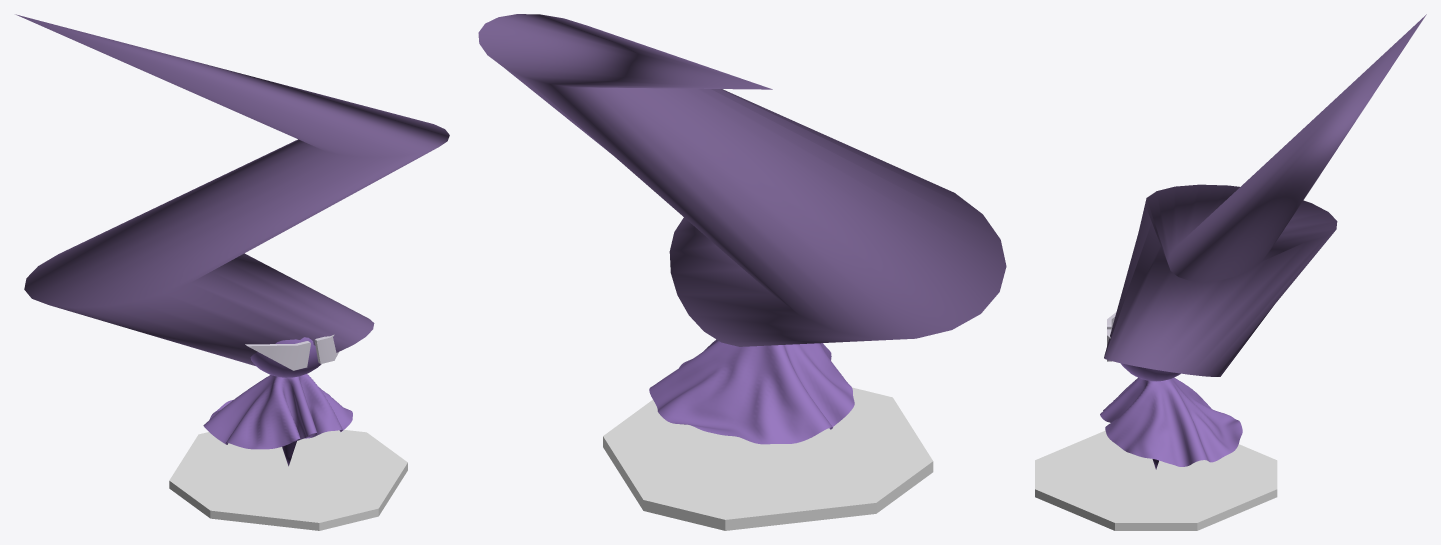
File: Catharsis.glb
3 views of the same model, side by side, from view 1: azimuth 30°, elevation 25°; view 2: azimuth 150°, elevation 25°; view 3: azimuth 270°, elevation 25° (orthographic). The views are drawn at different scales.
Parts seen in each view (by area): view 1: pCone2, pCube4, polySurface2, pCube1, pSphere1, pCube2; view 2: pCone2, pCube4, polySurface2; view 3: pCone2, pCube4, polySurface2, pSphere1.
Part boxes in pixels (bbox=[...]): pCone2: bbox=[15, 14, 449, 365]; pCube4: bbox=[169, 429, 407, 530]; polySurface2: bbox=[203, 374, 352, 449]; pCube1: bbox=[245, 341, 310, 370]; pSphere1: bbox=[250, 337, 321, 377]; pCube2: bbox=[314, 334, 338, 363]; pCone2: bbox=[478, 14, 1006, 346]; pCube4: bbox=[603, 387, 933, 530]; polySurface2: bbox=[649, 339, 854, 444]; pCone2: bbox=[1104, 14, 1426, 376]; pCube4: bbox=[1035, 430, 1277, 530]; polySurface2: bbox=[1100, 377, 1242, 466]; pSphere1: bbox=[1121, 363, 1180, 381].
Size of the model in its own units: 1.06 by 1.05 by 0.9326.
